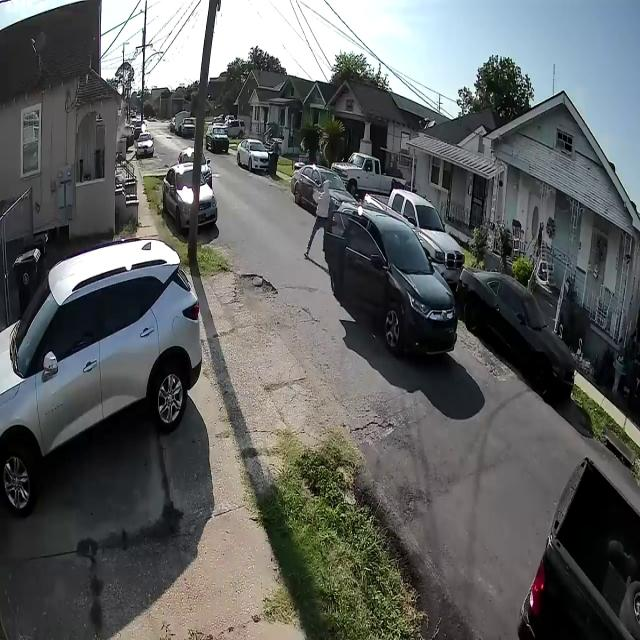penembakan: (304, 180, 334, 268)
